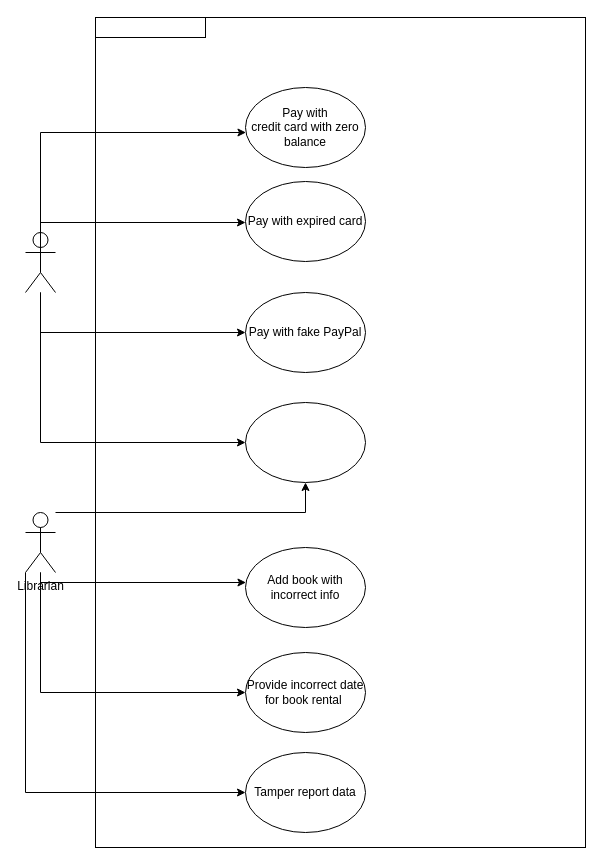
The diagram is 603 pixels wide and 865 high, and some of its shapes have lost their labels. The centre of each missing label's shape, as x and y in pixels:
"Library system" goes at [150,27].
"Reader" goes at [40,262].
"Steal credit card credentials" goes at [305,442].
